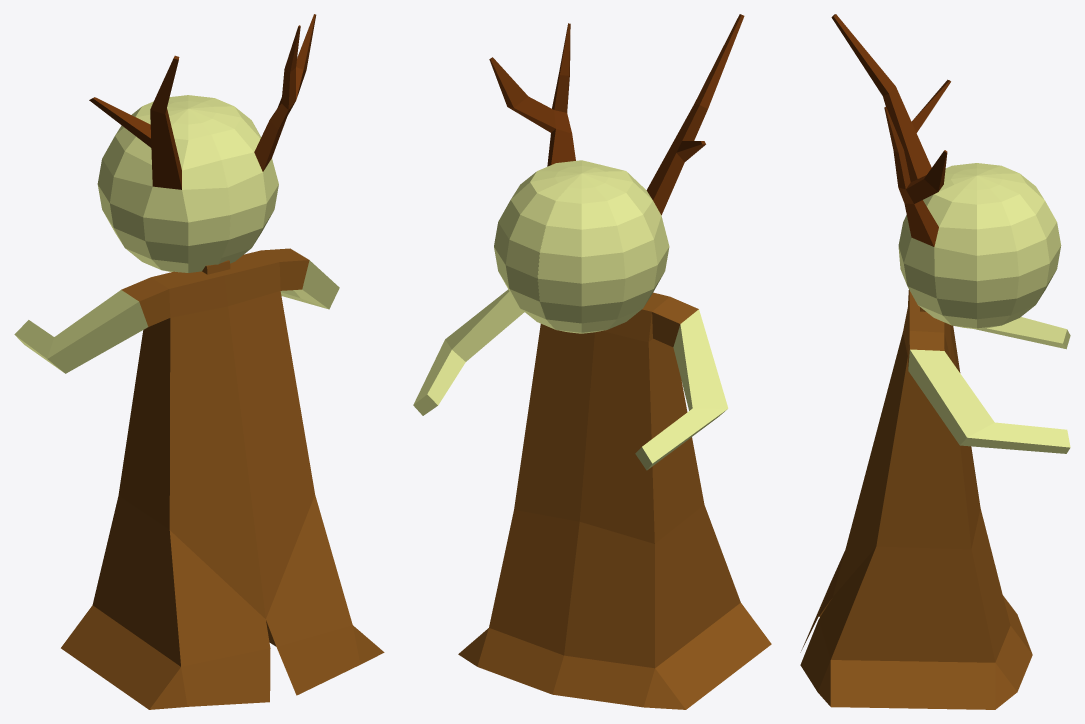
The model's file is Character.fbx.
The picture shows the model from 3 angles, left to right: view 1: azimuth 30°, elevation 25°; view 2: azimuth 150°, elevation 25°; view 3: azimuth 270°, elevation 25°; orthographic projection. The views are drawn at different scales.
Parts seen in each view (by area): view 1: Character; view 2: Character; view 3: Character.
Part boxes in pixels (<box>): Character: <box>14,14,384,709</box>; Character: <box>413,14,771,709</box>; Character: <box>800,14,1070,709</box>.
Bounding box in the file's own units: 63.67 × 135 × 54.84.
